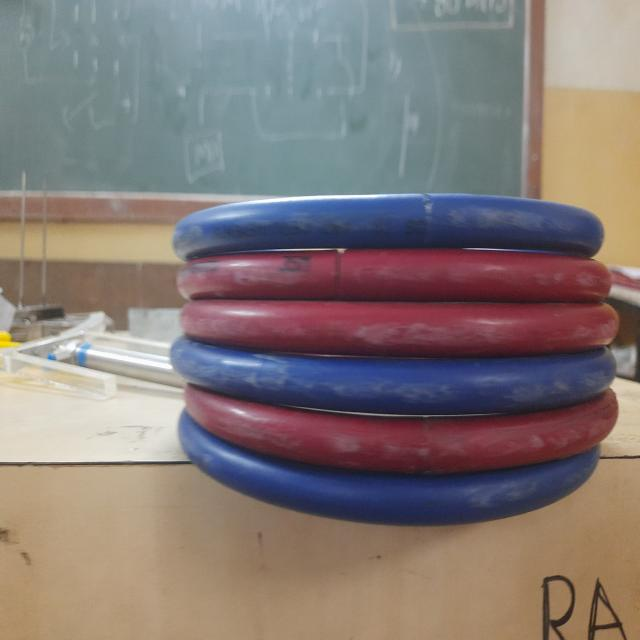daire: (192, 400, 611, 463), (188, 345, 602, 402), (181, 254, 605, 308), (187, 308, 616, 358), (181, 203, 600, 252), (216, 472, 586, 523)
